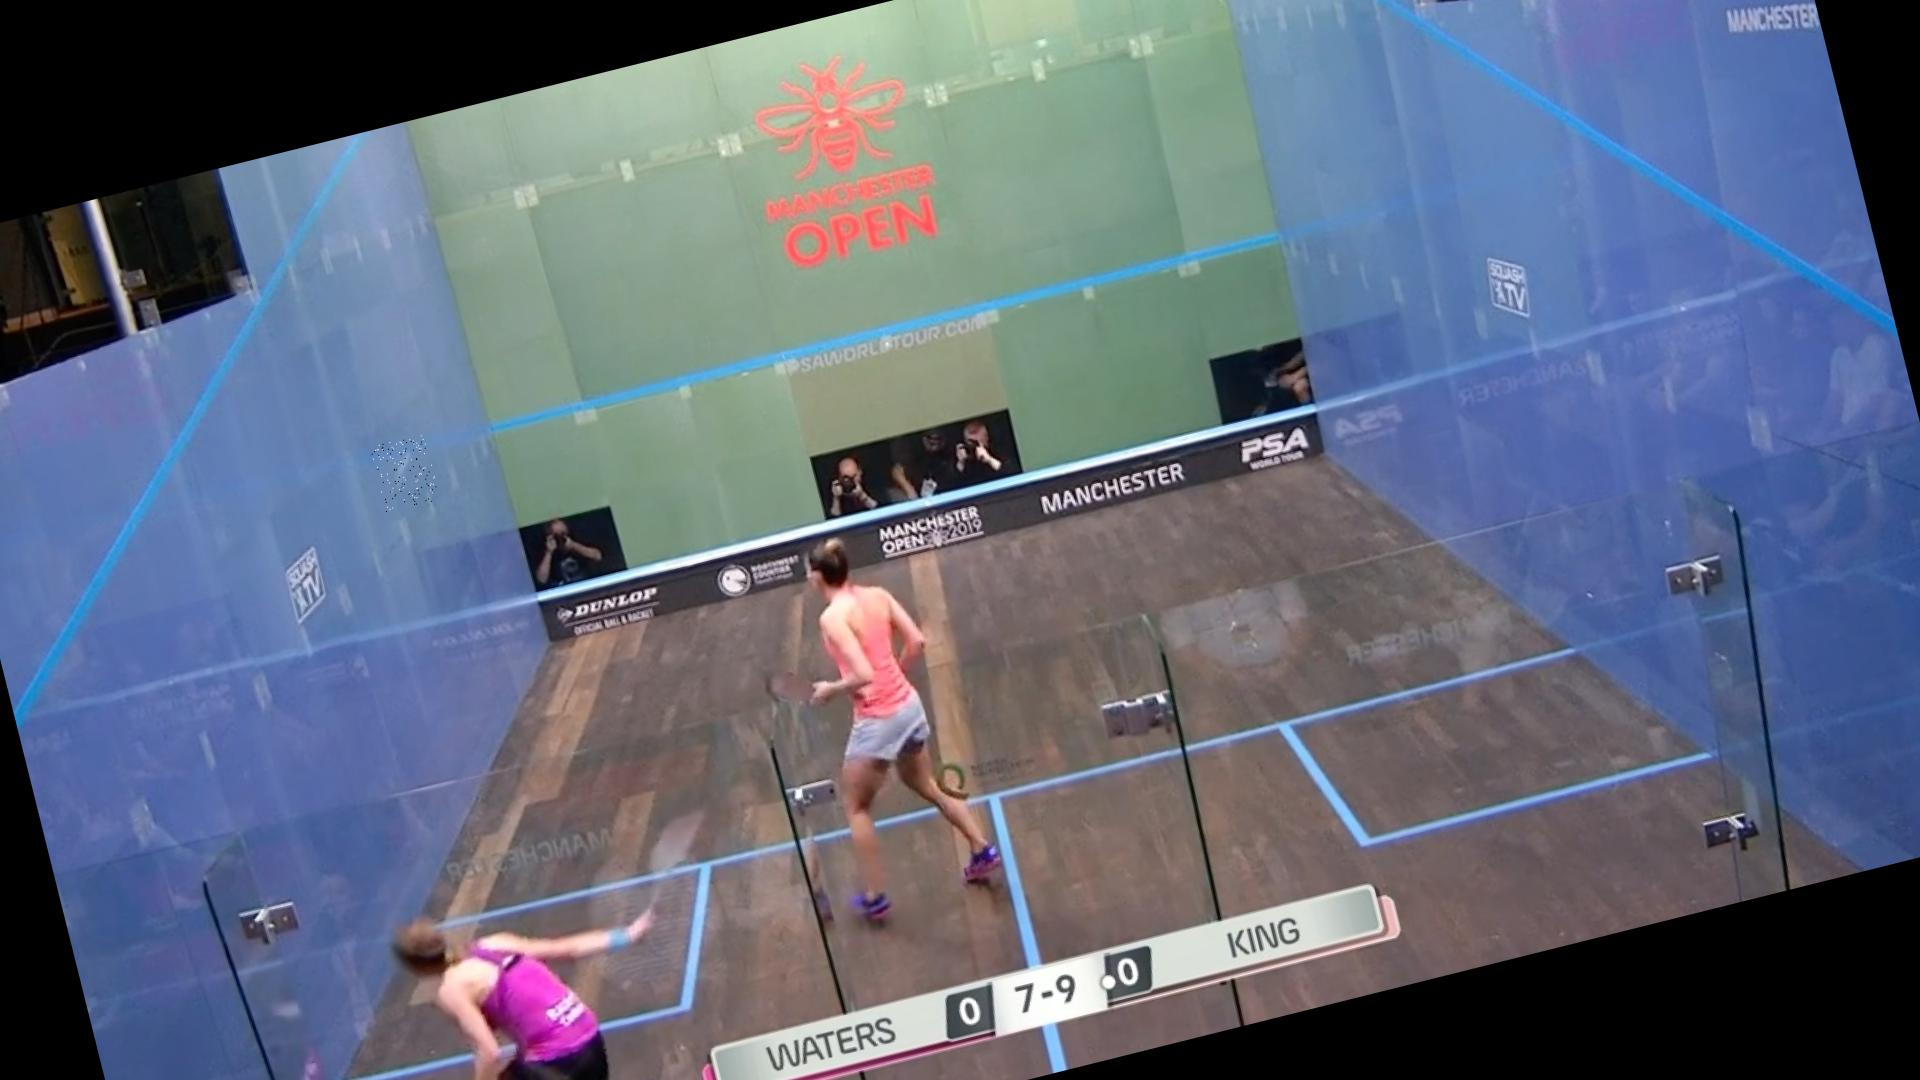Squash-Ball: (371, 434, 440, 513)
